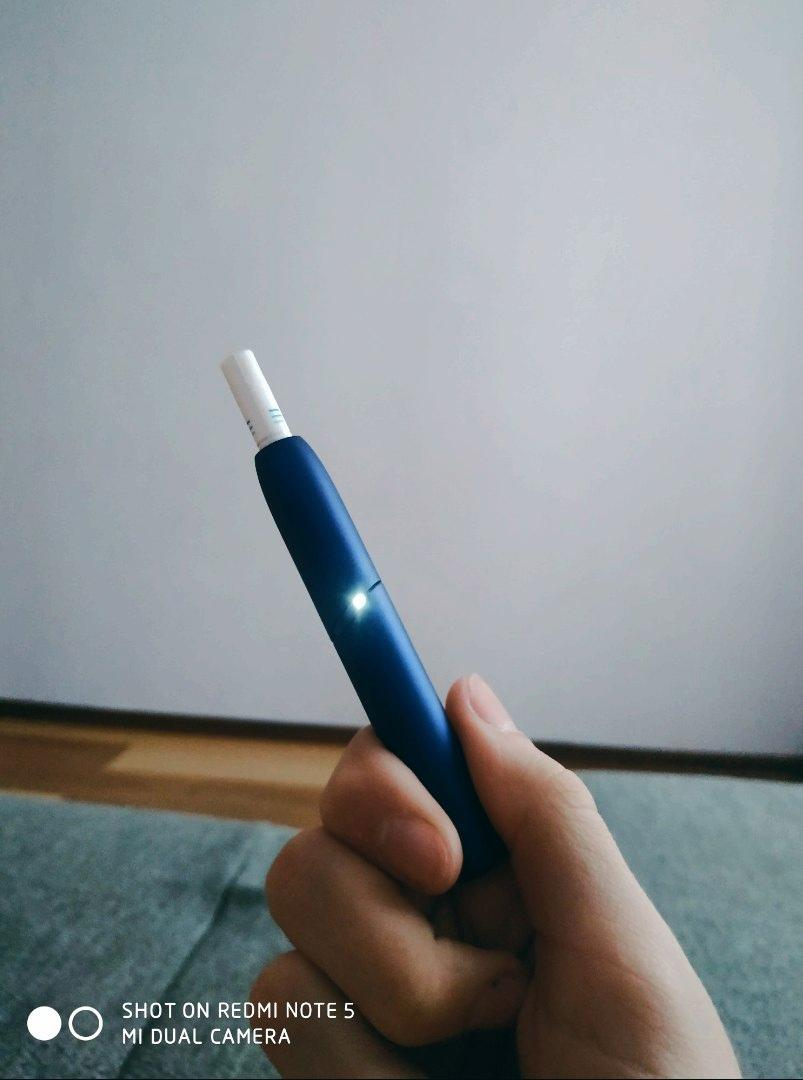iqos: (223, 352, 502, 879)
